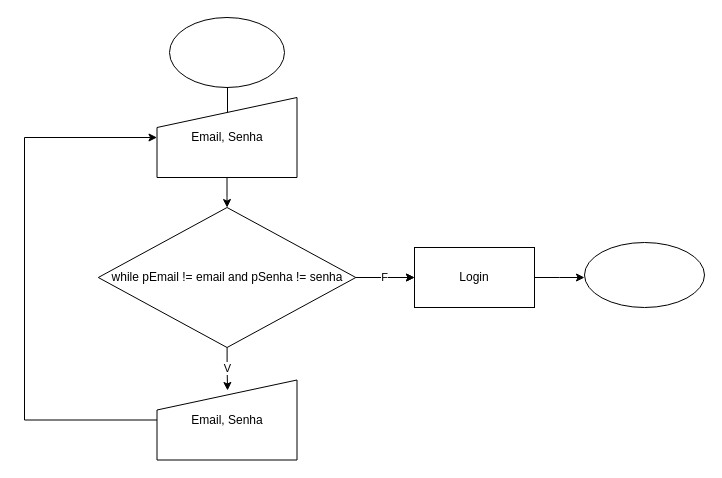
This 722x478 diagram has some shape labels left out. Here are the shapes that lost their labels. From the top down, the centre of each, then its label:
At pixel 226 52: "Início".
At pixel 644 275: "Fim".
